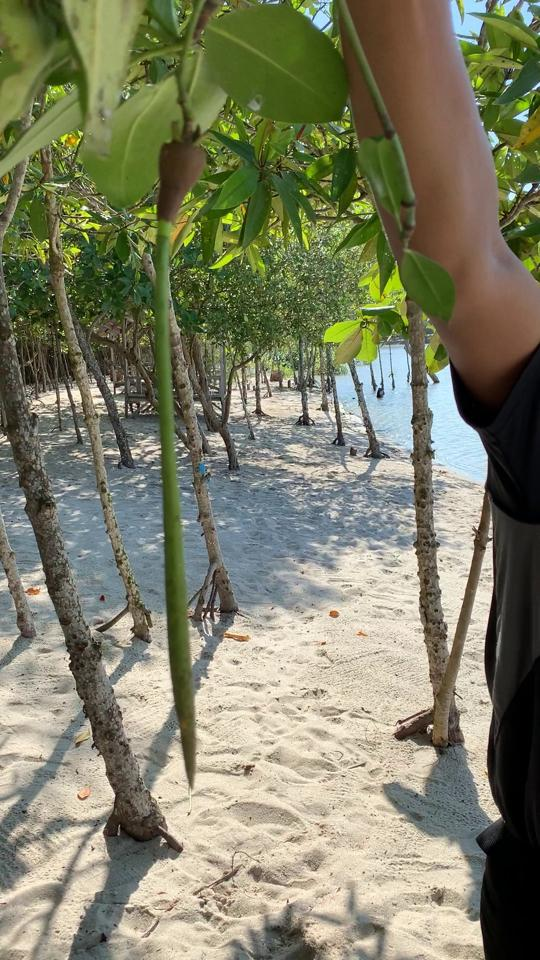setengah matang: (134, 119, 217, 790)
